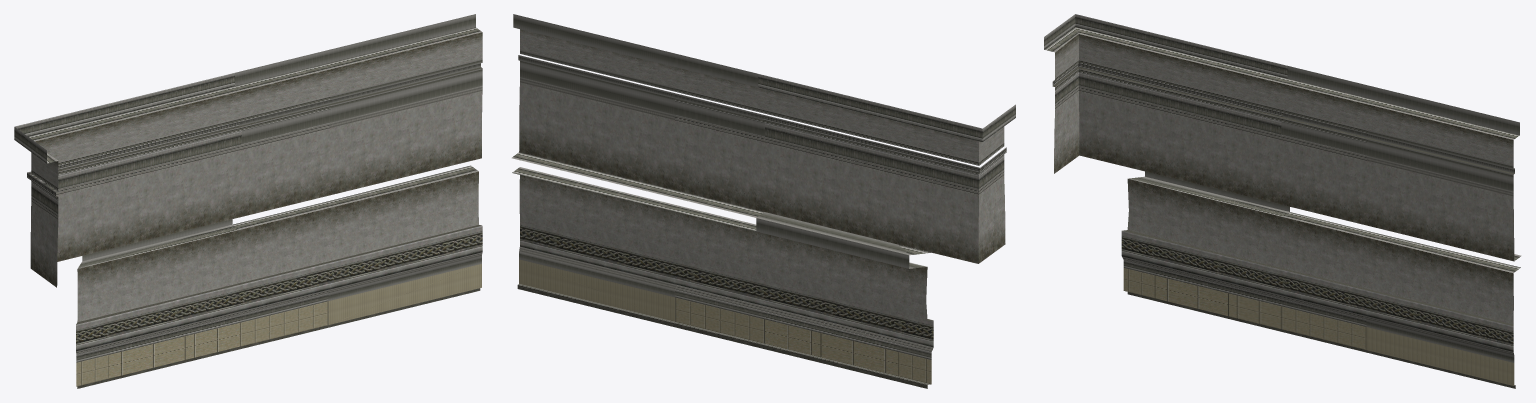
Rendered from DWARF_PALACE_FORGE_BACKWALL.fbx.
The picture shows the model from 3 angles, left to right: view 1: azimuth 30°, elevation 25°; view 2: azimuth 150°, elevation 25°; view 3: azimuth 330°, elevation 25°; orthographic projection. The views are drawn at different scales.
Visible parts, largest first — view 1: DWARF_PALACE_FORGE_BACKWALL; view 2: DWARF_PALACE_FORGE_BACKWALL; view 3: DWARF_PALACE_FORGE_BACKWALL.
Part boxes in pixels (box(x1,y1,x2,y2)): DWARF_PALACE_FORGE_BACKWALL: box(14, 14, 482, 388); DWARF_PALACE_FORGE_BACKWALL: box(511, 14, 1015, 388); DWARF_PALACE_FORGE_BACKWALL: box(1044, 14, 1521, 388).
Bounding box in the file's own units: 362071 × 205000 × 48536.
Materials: 7 (7 with a texture image).
